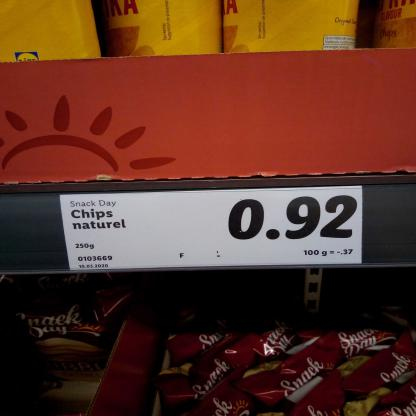prtg: (60, 186, 363, 271)
